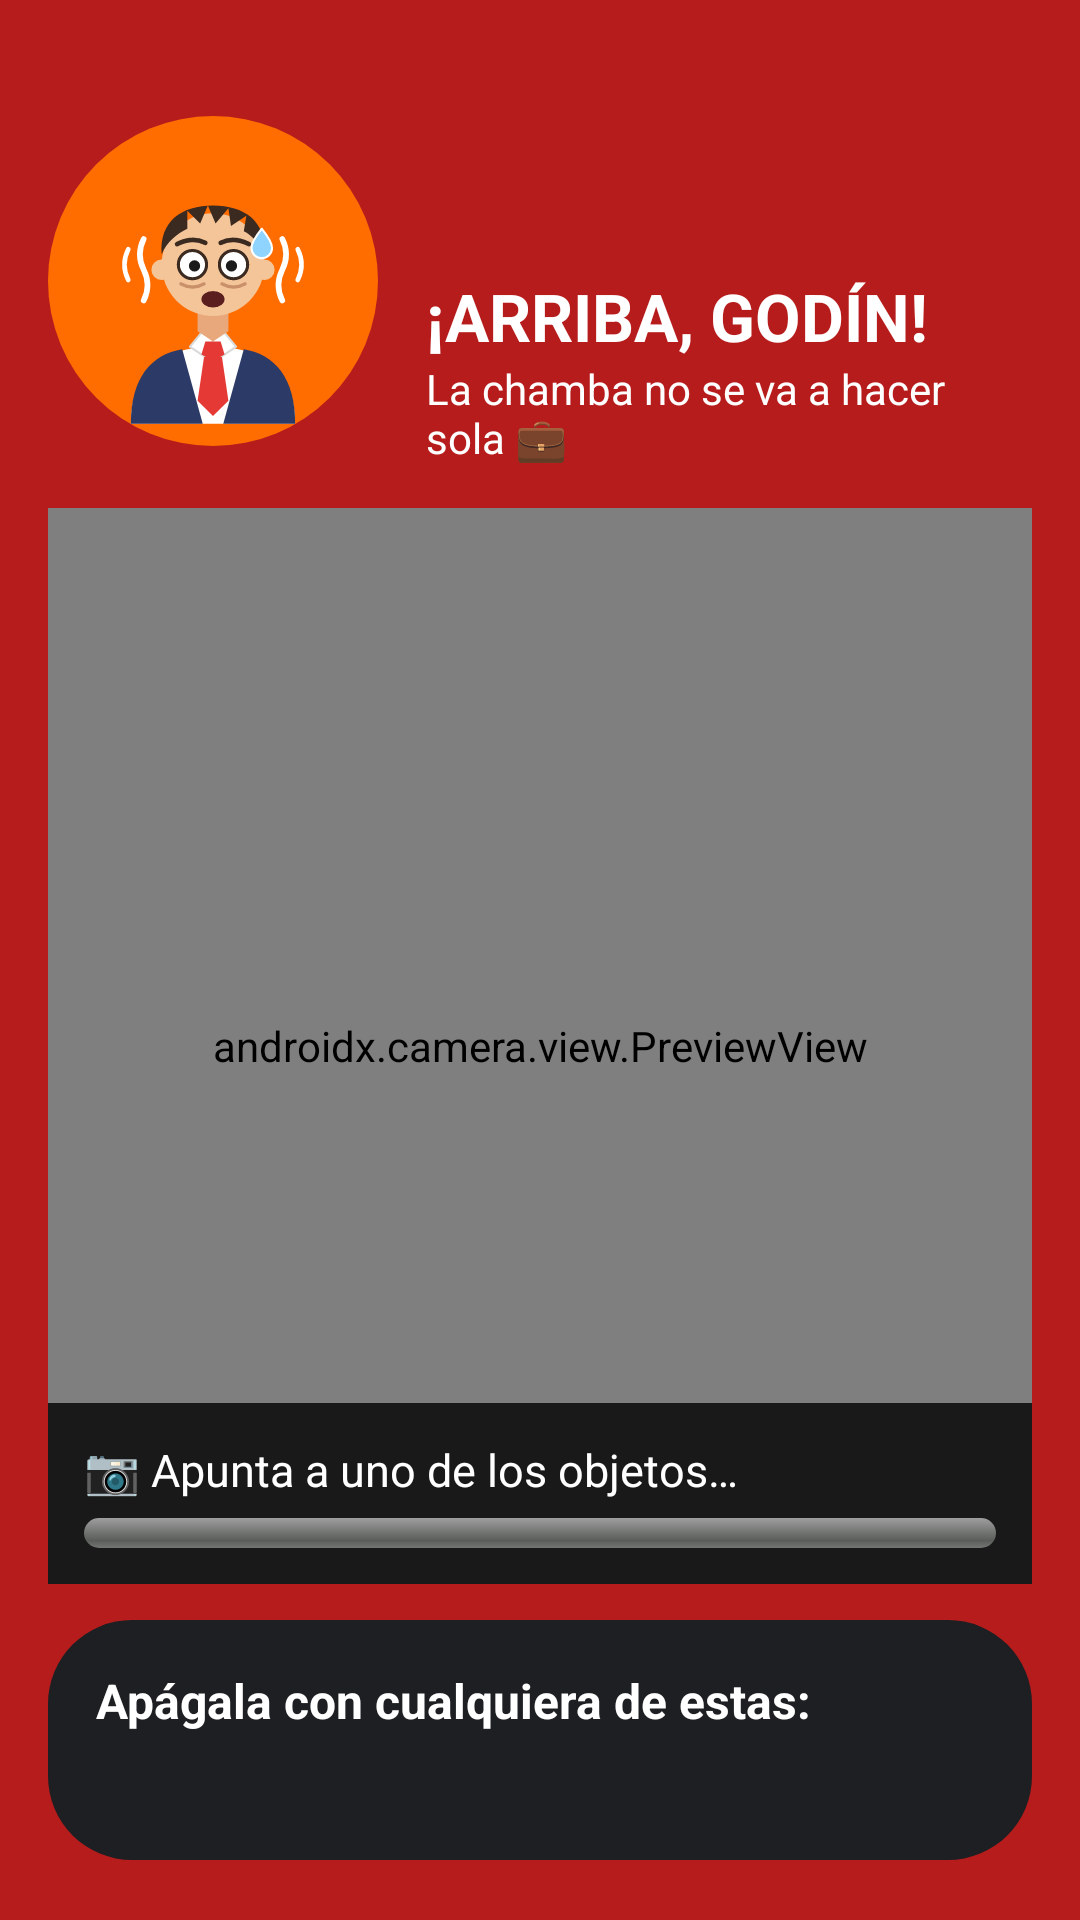

Locate icon controls on the screen. Image size 1080x1920, boxes as bbox=(x1, y1, x2, y2).
Godín despertando: bbox=(48, 116, 378, 446)
